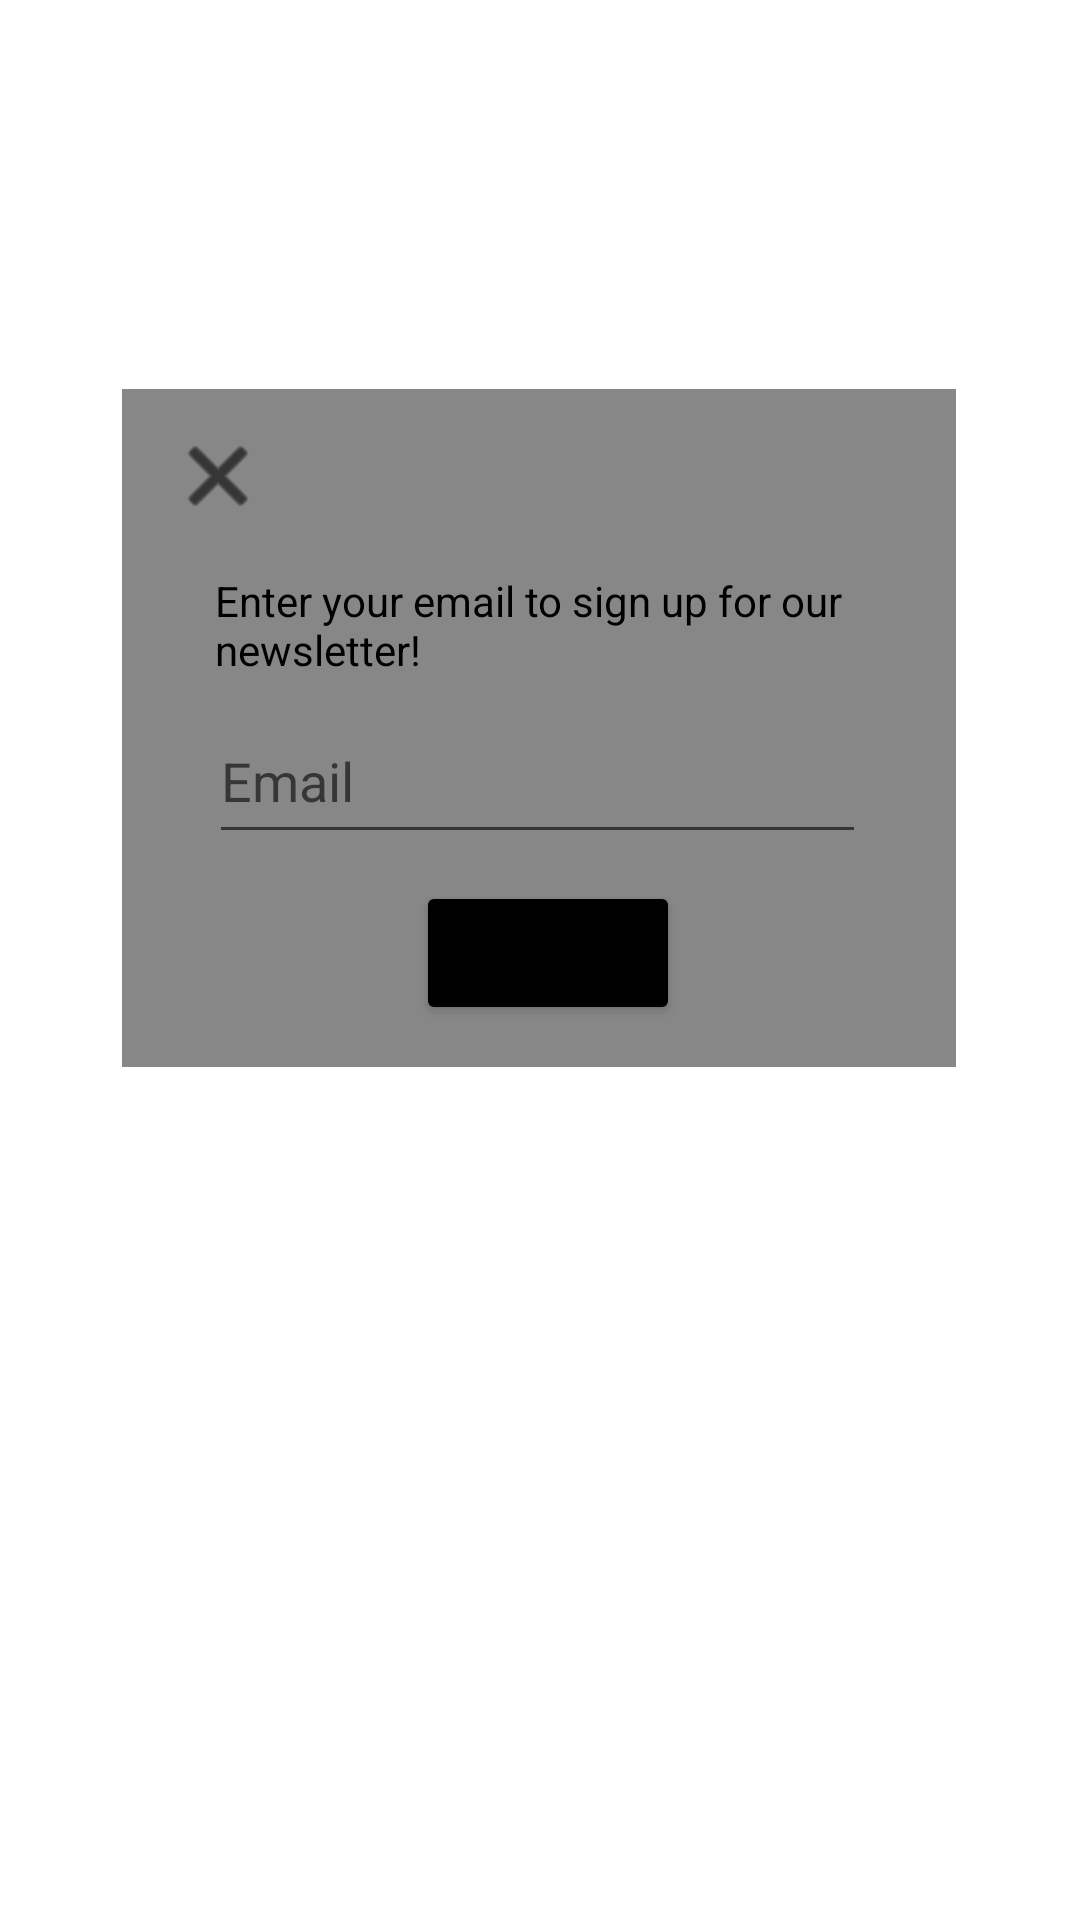

Locate icon controls on the screen. Image size 1080×1920, boxes as (x1, y1, x2, y2).
close clear cancel: (188, 446, 248, 506)
